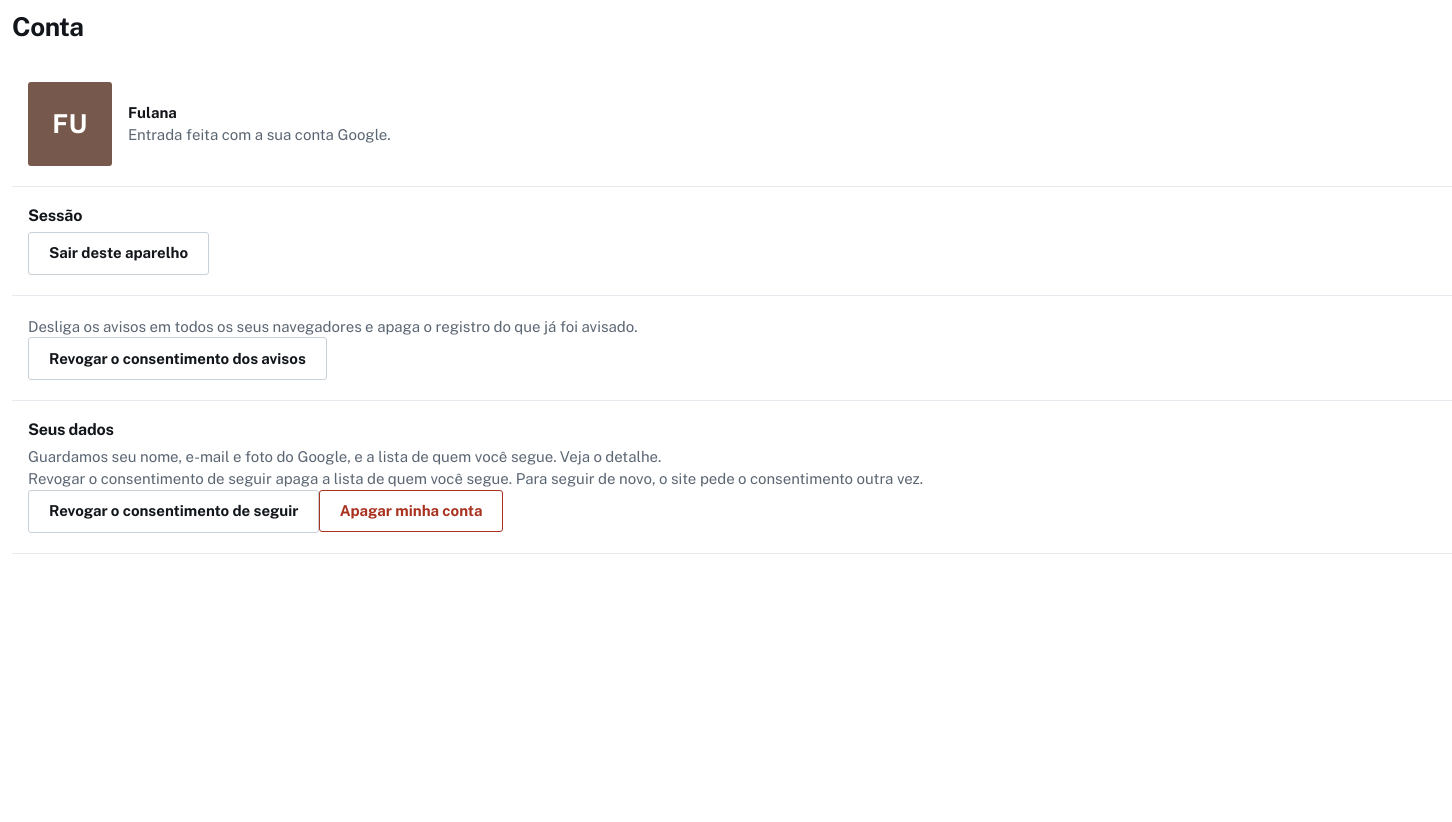
Test: minha conta › revogar o consentimento avisa que a lista foi apagada
The width and height of the screenshot is (1452, 822).
Step 1. Click the button "Revogar o consentimento de seguir" → (174, 511), box [28,490,320,532]
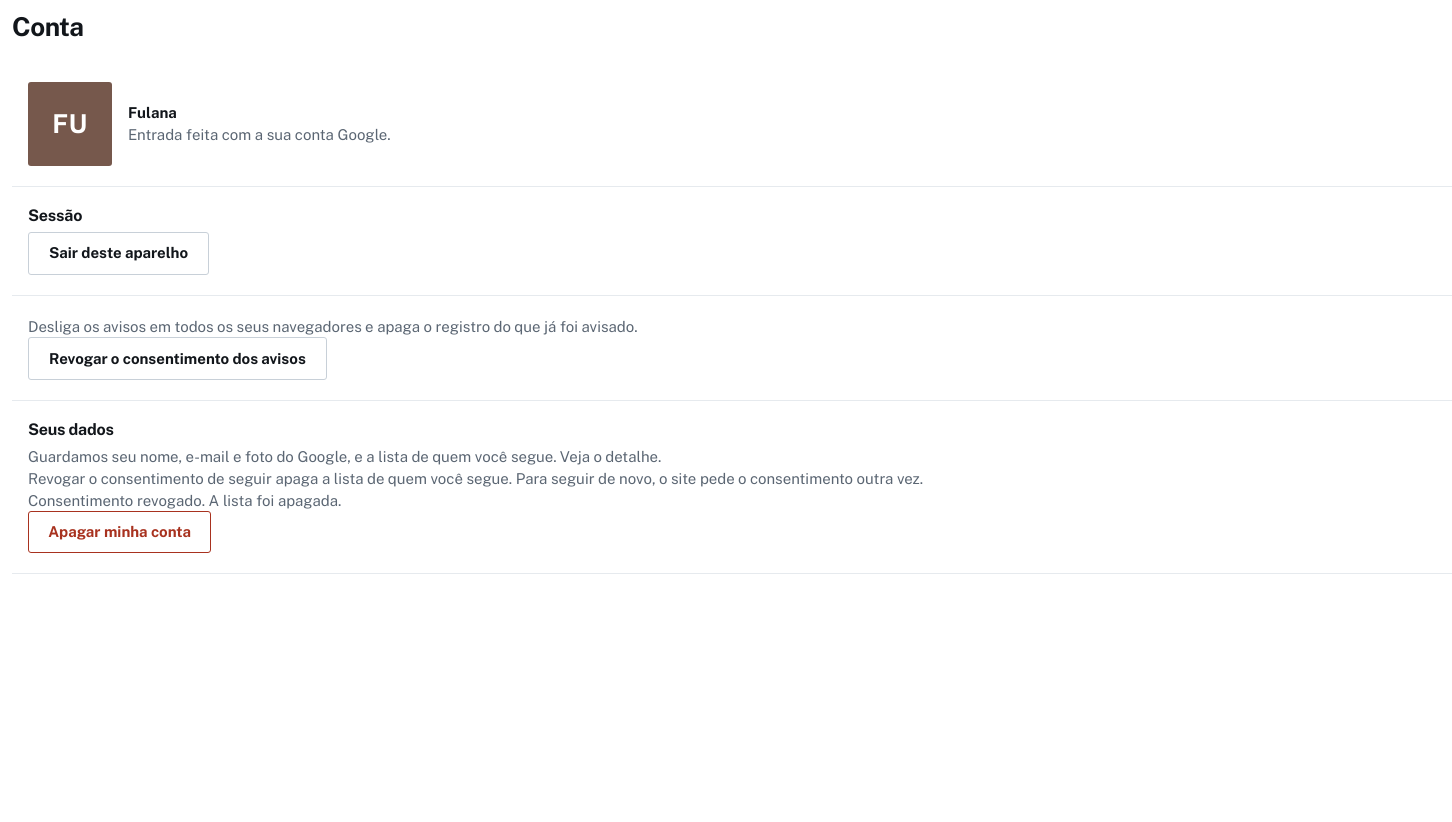
Expected: the text "Consentimento revogado. A lista foi apagada." is shown, [28,492,341,509]
